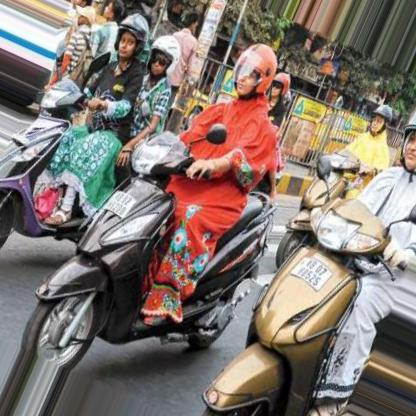with helmet: (233, 42, 277, 101), (113, 13, 147, 62), (148, 34, 179, 76)
